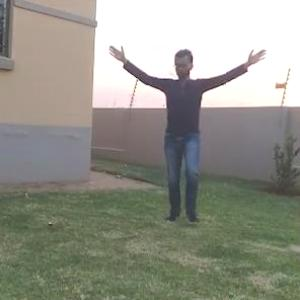takeoff: (112, 11, 291, 240)
